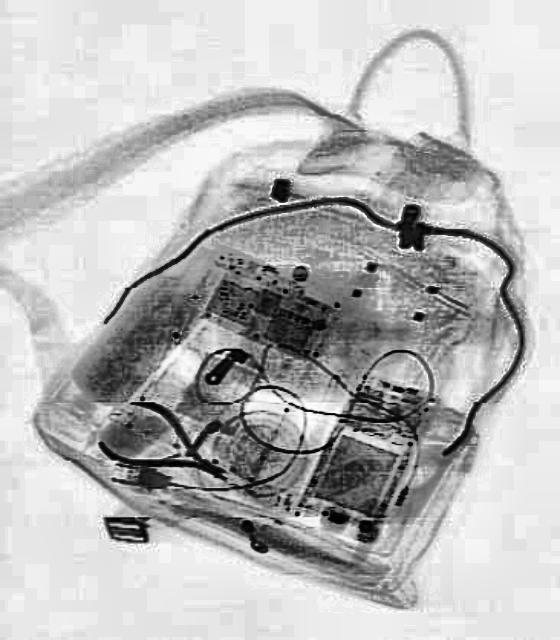Pliers: (93, 385, 239, 505)
